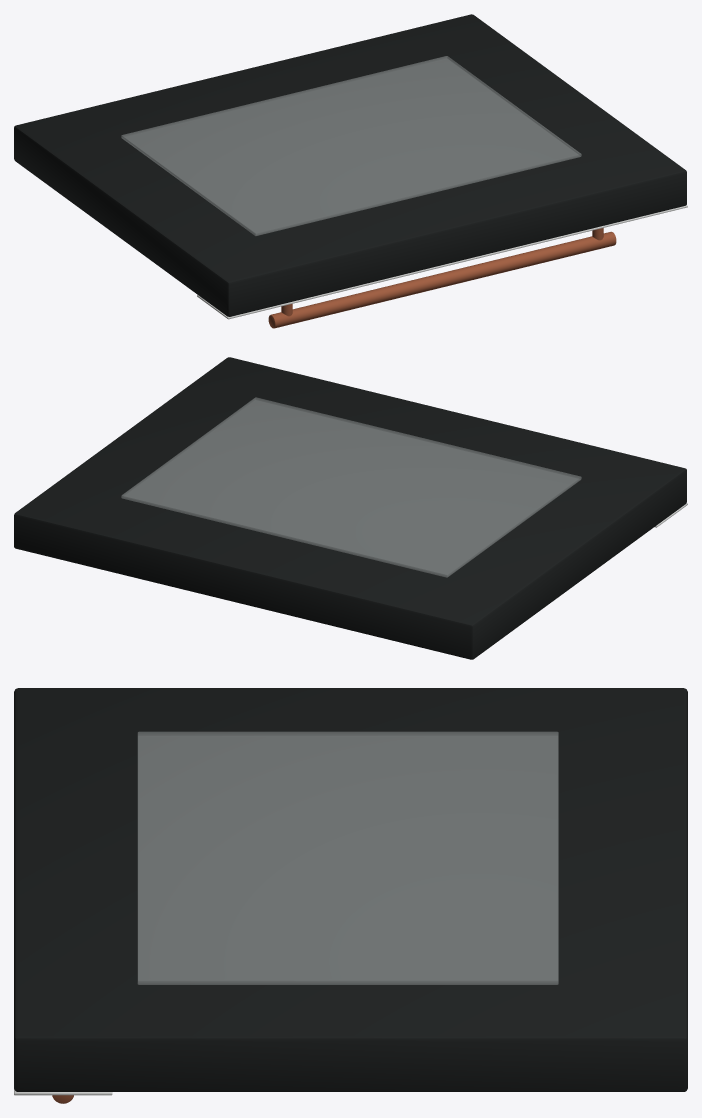
The model's file is built_in_oven_door.glb.
3 renders of one model, top to bottom at view 1: azimuth 30°, elevation 25°; view 2: azimuth 150°, elevation 25°; view 3: azimuth 270°, elevation 25°, orthographic. The views are drawn at different scales.
Parts seen in each view (by area): view 1: built_in_oven_door_x; view 2: built_in_oven_door_x; view 3: built_in_oven_door_x.
Part boxes in pixels (x1,y1,x2,y2): built_in_oven_door_x: (14, 14, 687, 328); built_in_oven_door_x: (14, 357, 687, 659); built_in_oven_door_x: (14, 688, 687, 1103).
Bounding box in the file's own units: 0.592 × 0.093 × 0.48.
